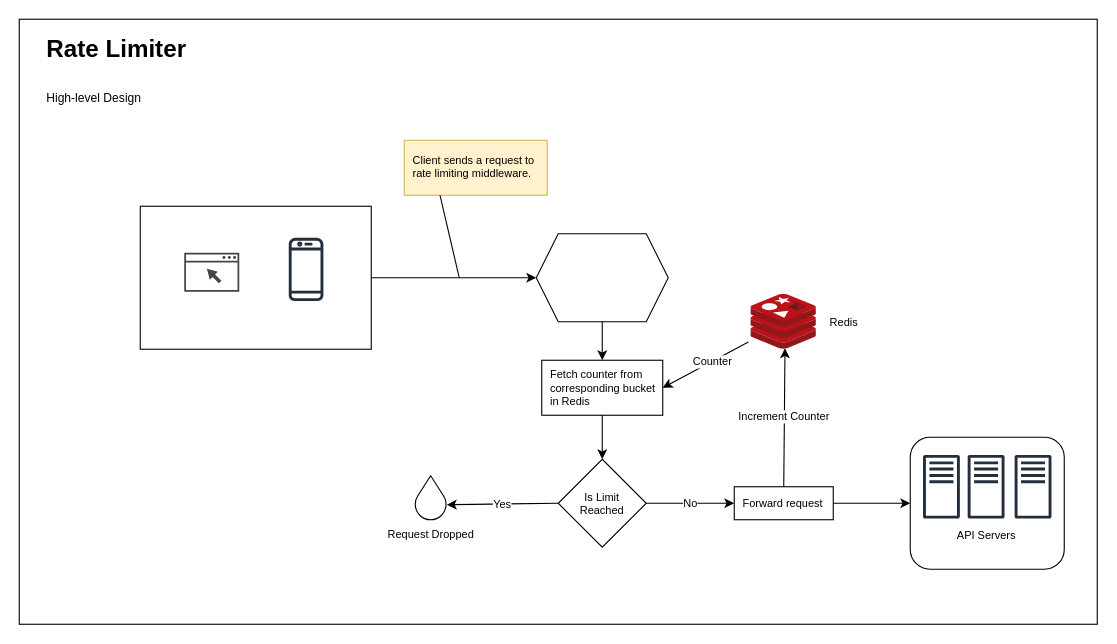
This 1117x644 diagram has some shape labels left out. The centre of each missing label's shape, as x and y in pixels:
"Browser" belongs at [211,271].
"Mobile" belongs at [305,269].
"Rate Limiter Middleware" belongs at [601,277].
